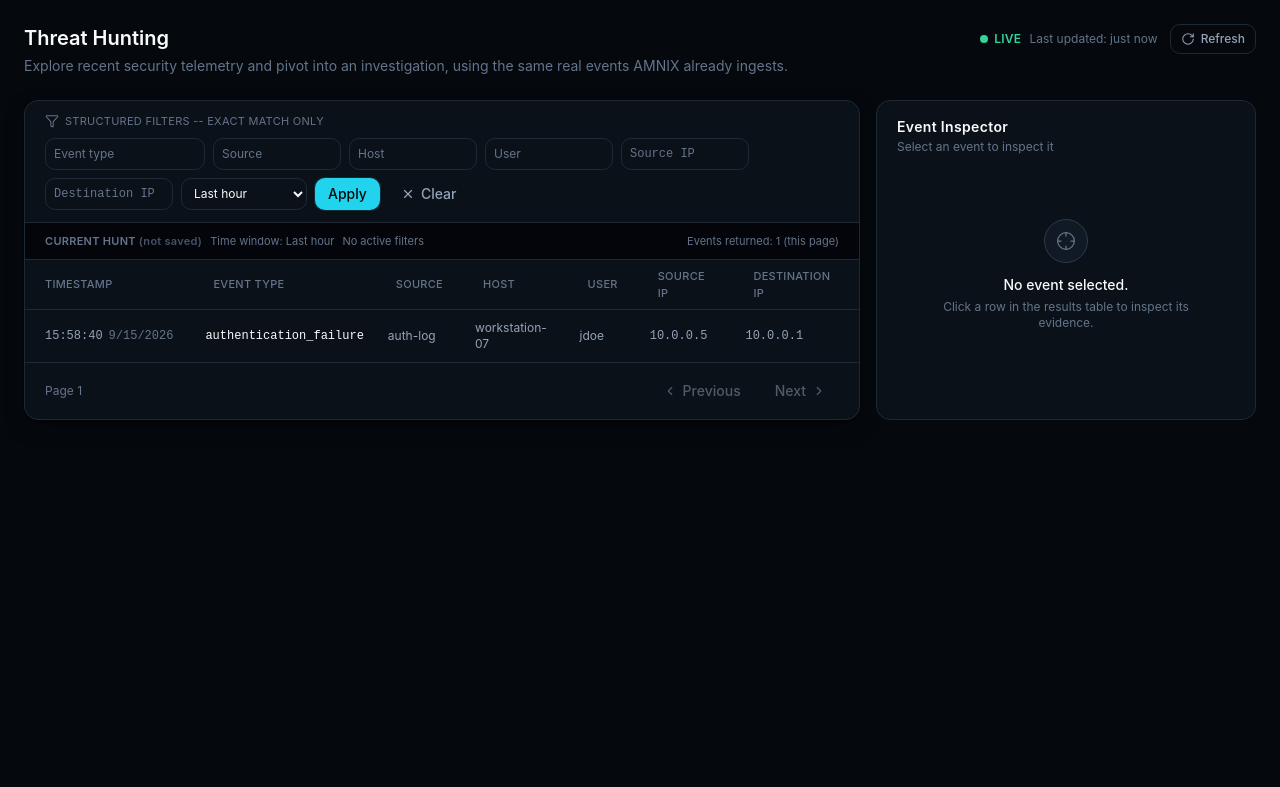
Test: Step 12Y: Threat Hunting Linked Alerts integration (GET /events/{id}/alerts) › shows an honest empty state when the selected event has no linked alerts
Click the text "authentication_failure" at (285, 336), box x1=193 y1=310 x2=376 y2=362
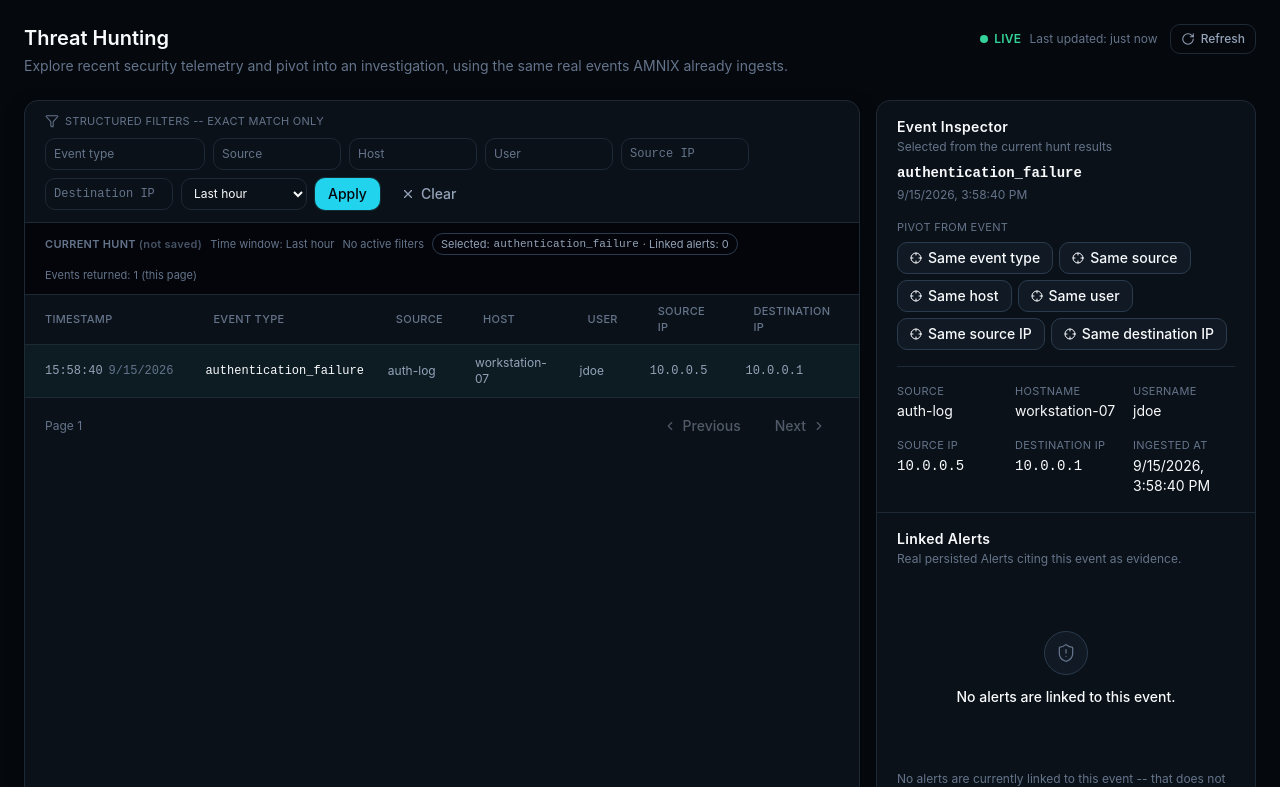
Expected: the text "No alerts are linked to this event." is shown, x1=956 y1=686 x2=1175 y2=706
